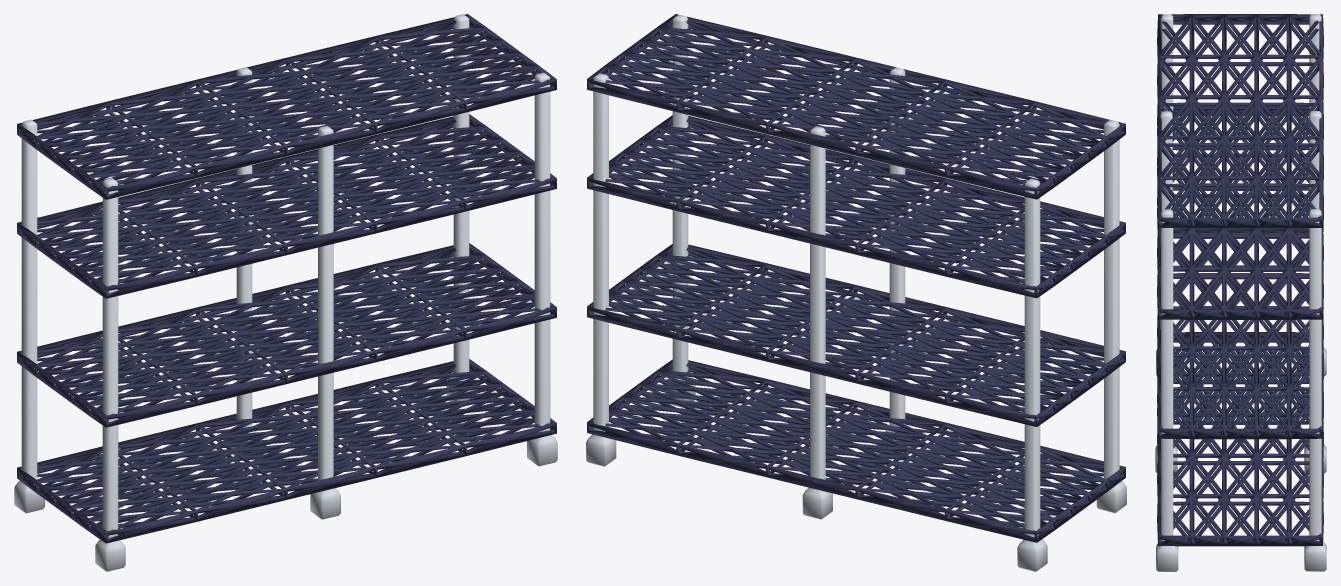
File: metallshelf.fbx
3 views of the same model, side by side, from view 1: azimuth 30°, elevation 25°; view 2: azimuth 150°, elevation 25°; view 3: azimuth 270°, elevation 25° (orthographic). The views are drawn at different scales.
Visible parts, largest first — view 1: metallshelf; view 2: metallshelf; view 3: metallshelf.
Part boxes in pixels (x1,y1,x2,y2): metallshelf: (14,14,557,571); metallshelf: (586,14,1126,571); metallshelf: (1155,14,1326,571).
Bounding box in the file's own units: 409 × 333 × 145.
